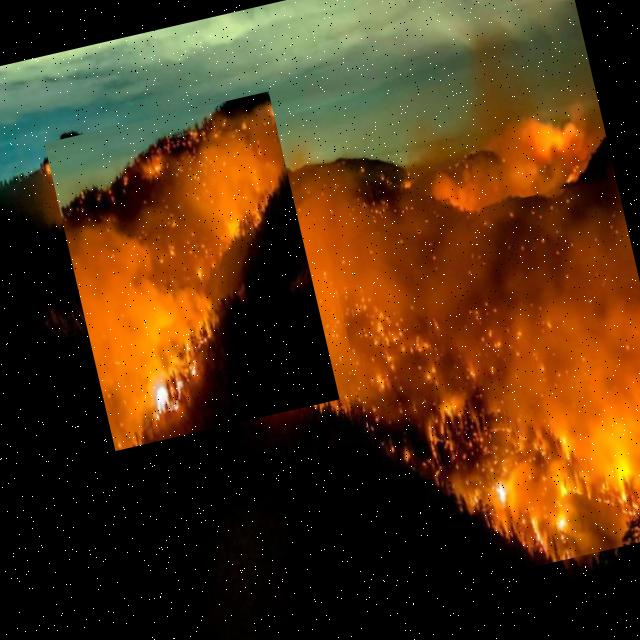fire: (325, 175, 640, 595), (44, 90, 339, 450)
